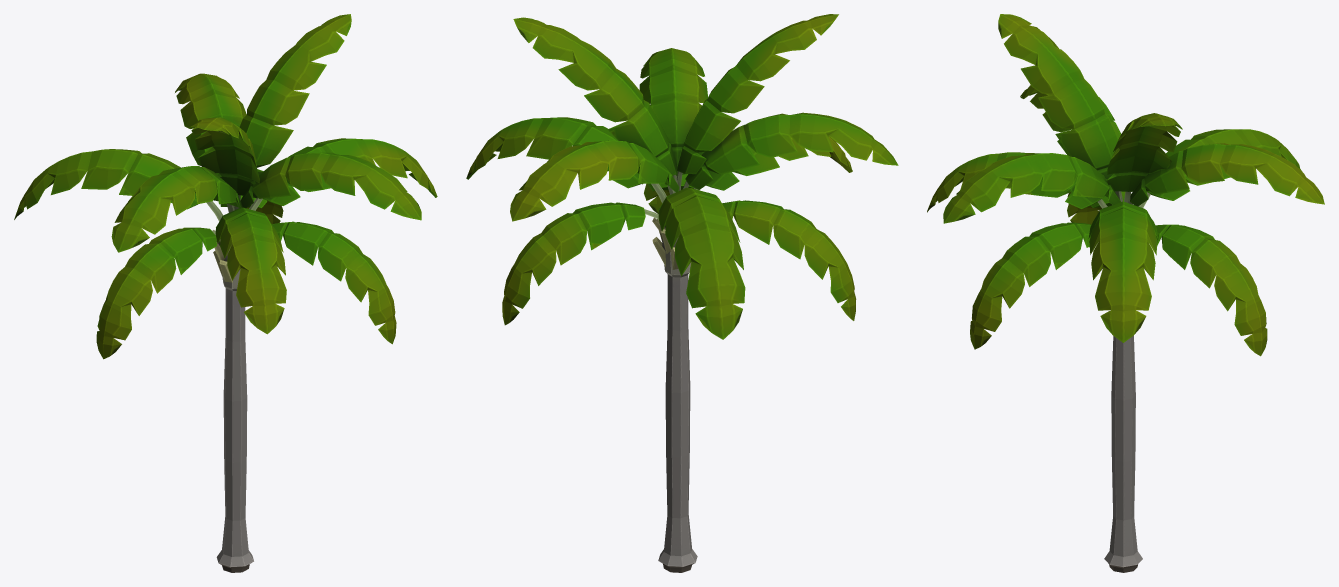
File: QueenPalmTree.obj
3 renders of one model, left to right at view 1: azimuth 30°, elevation 25°; view 2: azimuth 150°, elevation 25°; view 3: azimuth 270°, elevation 25°, orthographic. The views are drawn at different scales.
Visible parts, largest first — view 1: QueenPalmTree_Mesh; view 2: QueenPalmTree_Mesh; view 3: QueenPalmTree_Mesh.
Boxes of the visible parts, x1=… form: QueenPalmTree_Mesh: x1=14, y1=14, x2=437, y2=572; QueenPalmTree_Mesh: x1=466, y1=14, x2=898, y2=572; QueenPalmTree_Mesh: x1=927, y1=14, x2=1324, y2=572.
Bounding box in the file's own units: 10.7 × 14.17 × 10.06.
Materials: 1 (1 with a texture image).
